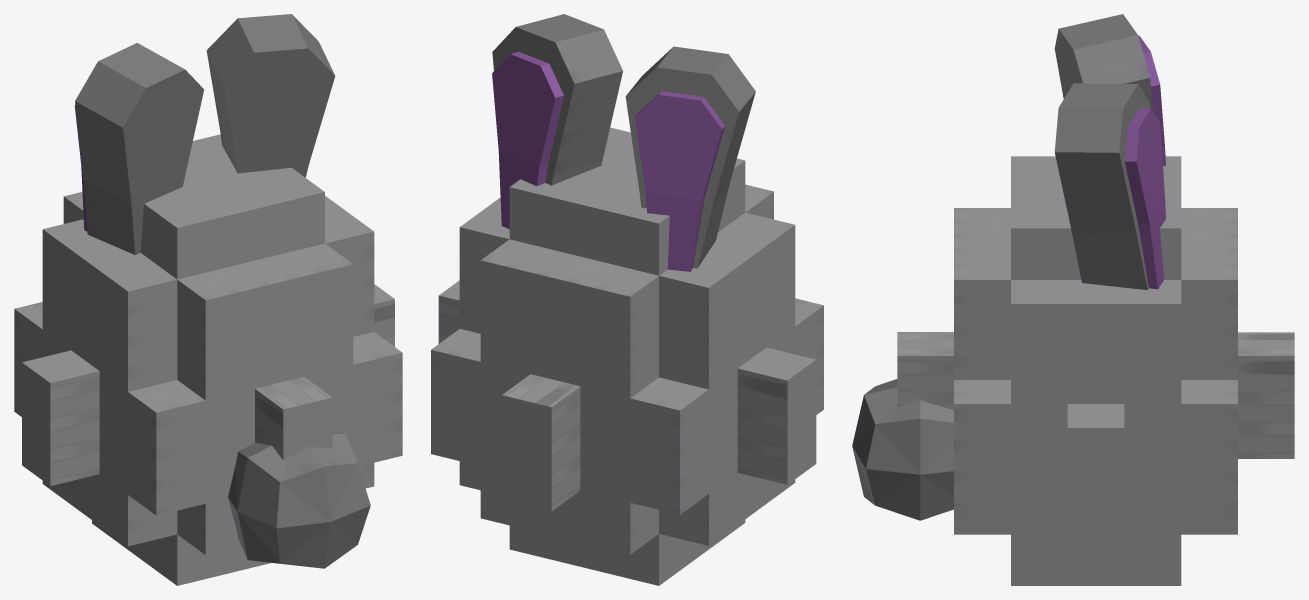
Rendered from egg_z01_02.glb.
3 views of the same model, side by side, from view 1: azimuth 30°, elevation 25°; view 2: azimuth 150°, elevation 25°; view 3: azimuth 270°, elevation 25° (orthographic).
Parts seen in each view (by area): view 1: model_096; view 2: model_096; view 3: model_096.
Boxes of the visible parts, x1=… form: model_096: x1=14, y1=14, x2=402, y2=585; model_096: x1=431, y1=14, x2=823, y2=585; model_096: x1=852, y1=14, x2=1294, y2=585.
Size of the model in its own units: 2.94 by 4 by 3.27.
3 materials, 3 textured.
